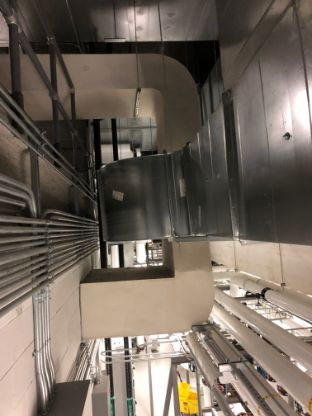Duct: (203, 1, 312, 247), (1, 41, 207, 154), (71, 237, 221, 344), (91, 139, 190, 246)
